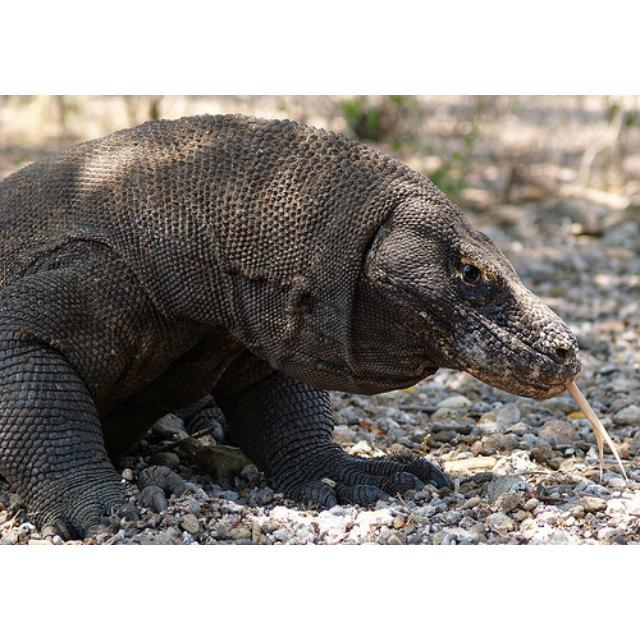KomodoDragon: (1, 110, 630, 537)
